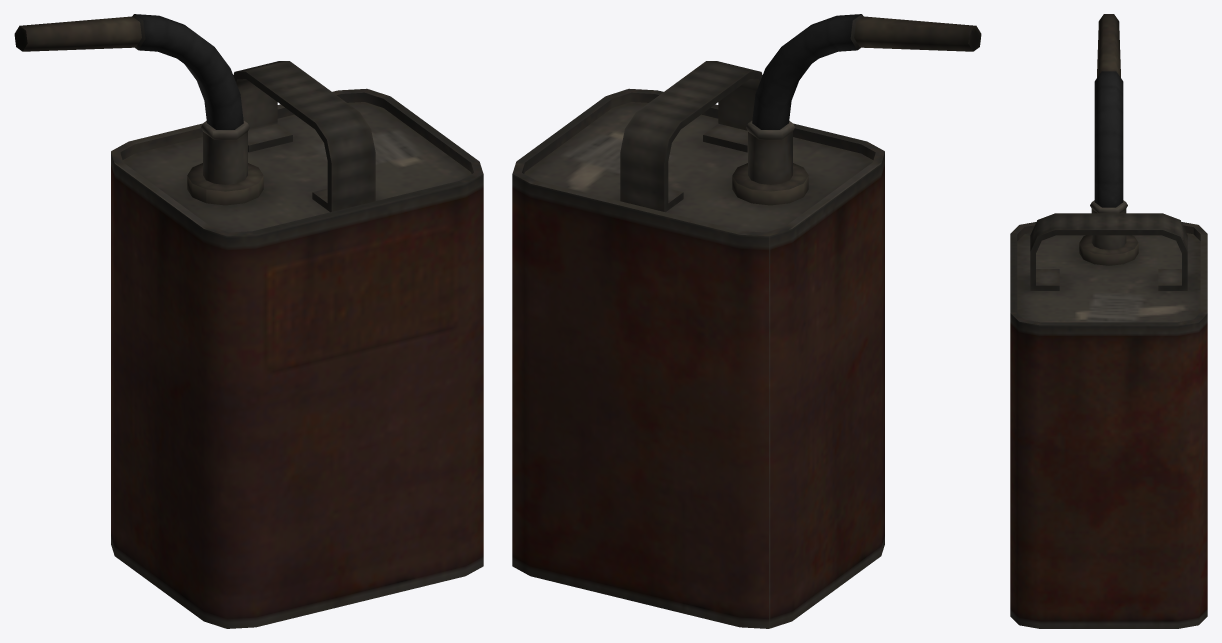
The model's file is jerrycan_mx_1.obj.
3 renders of one model, left to right at view 1: azimuth 30°, elevation 25°; view 2: azimuth 150°, elevation 25°; view 3: azimuth 270°, elevation 25°, orthographic. The views are drawn at different scales.
Visible parts, largest first — view 1: jerrycan_mx_1; view 2: jerrycan_mx_1; view 3: jerrycan_mx_1.
Part boxes in pixels (left/top/right/bottom): jerrycan_mx_1: left=14, top=14, right=483, bottom=628; jerrycan_mx_1: left=512, top=14, right=981, bottom=628; jerrycan_mx_1: left=1010, top=14, right=1207, bottom=628.
Bounding box in the file's own units: 0.4522 × 0.6173 × 0.24.
